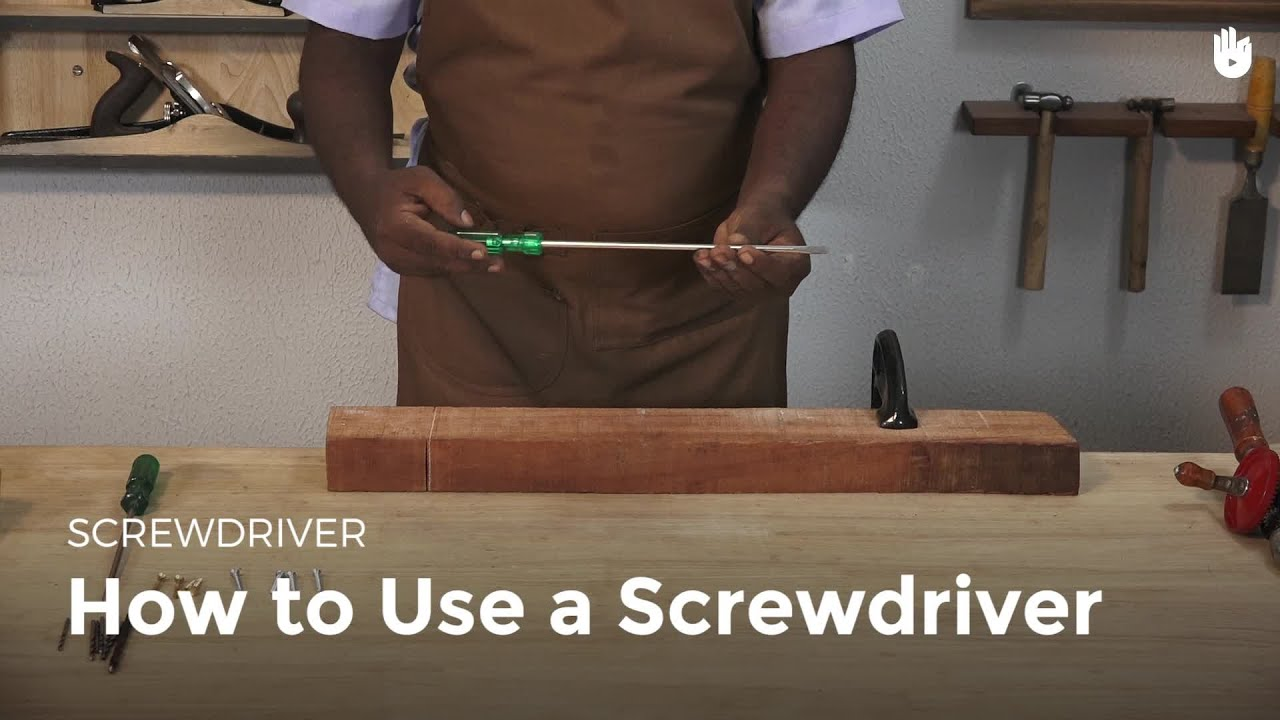screwdriver: (442, 223, 825, 262)
